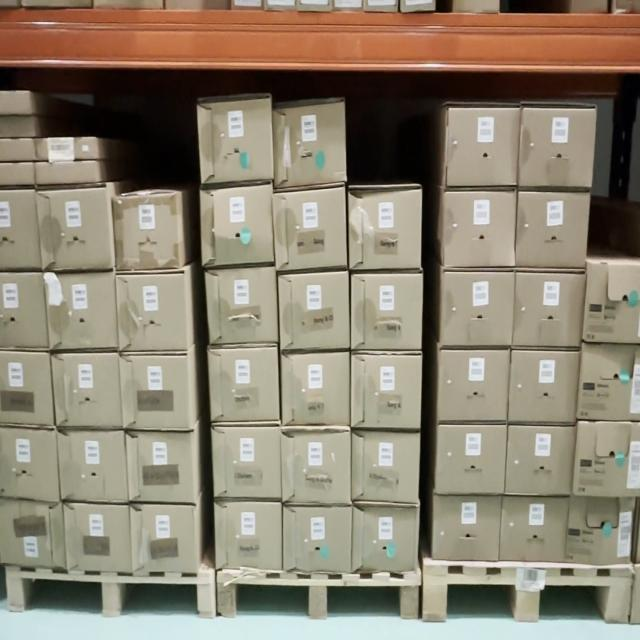box: (520, 107, 594, 190), (445, 190, 516, 276), (445, 107, 517, 191), (352, 186, 422, 272), (520, 190, 588, 273), (212, 423, 284, 501), (196, 106, 271, 180), (40, 196, 116, 269), (352, 274, 422, 352), (272, 109, 344, 184), (275, 198, 347, 272), (516, 273, 583, 352), (283, 276, 350, 354), (202, 192, 270, 268), (210, 272, 281, 344), (126, 431, 197, 502), (352, 356, 422, 428), (285, 428, 351, 504), (447, 272, 513, 346), (282, 354, 348, 428), (120, 358, 190, 427), (60, 502, 130, 571), (213, 352, 279, 424), (115, 194, 181, 266), (353, 431, 418, 504), (56, 352, 120, 424), (47, 280, 116, 346), (120, 277, 183, 349), (440, 350, 507, 417), (569, 500, 635, 568), (57, 433, 126, 498), (217, 500, 281, 569), (514, 352, 579, 419), (436, 494, 498, 564), (438, 425, 504, 488), (350, 512, 417, 574), (132, 508, 200, 569), (512, 427, 572, 495), (286, 506, 350, 568), (504, 496, 565, 560), (35, 162, 100, 186), (40, 140, 95, 159)
